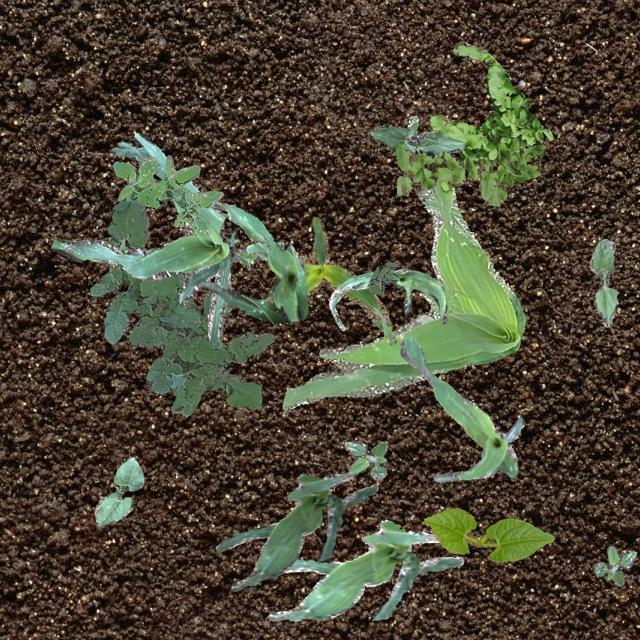crop: (62, 132, 284, 344), (266, 520, 462, 620), (215, 470, 378, 590), (399, 336, 524, 482), (264, 215, 394, 344), (200, 200, 308, 322), (328, 268, 446, 330), (423, 508, 552, 562), (94, 456, 142, 526), (368, 126, 464, 158), (588, 238, 616, 326), (50, 236, 134, 264)
weed: (280, 115, 524, 412), (89, 198, 272, 414), (428, 40, 552, 192), (396, 137, 544, 205), (111, 154, 222, 234), (594, 544, 636, 584), (344, 439, 386, 478), (367, 260, 398, 294)
